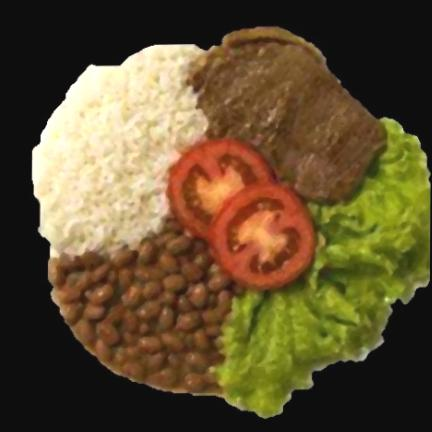beans: (48, 217, 242, 394)
meat: (188, 28, 386, 204)
rice: (33, 45, 207, 254)
salad: (216, 118, 430, 416)
tomato: (167, 139, 314, 290)
